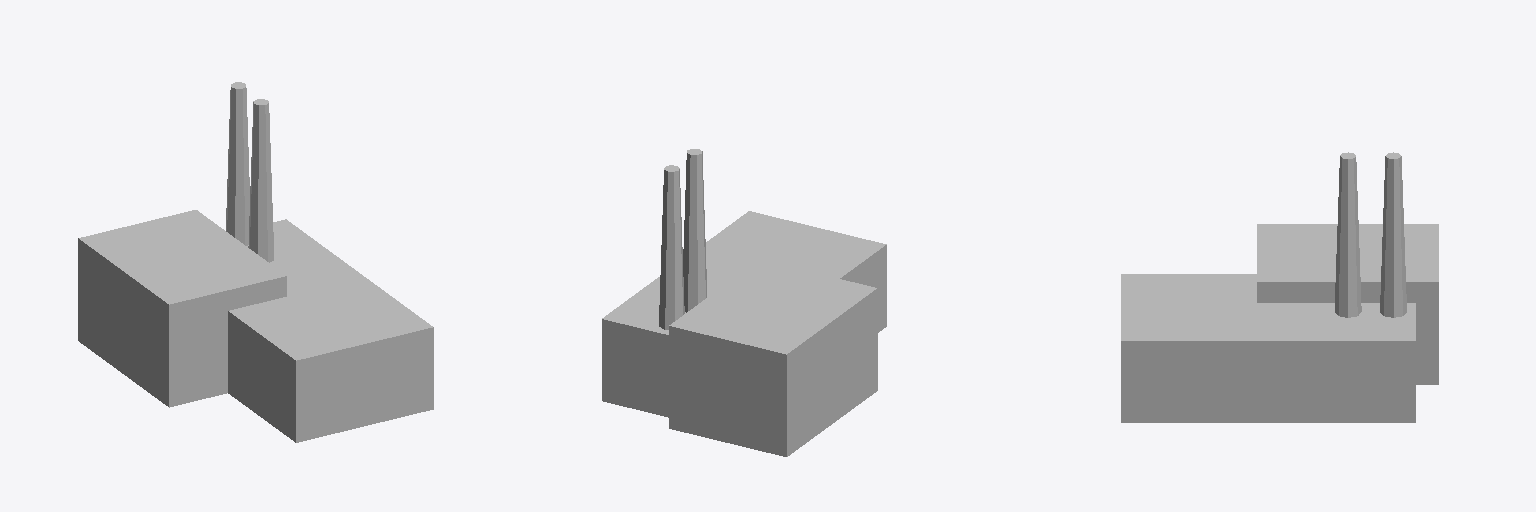
The model's file is Background_Building_04.obj.
3 renders of one model, left to right at view 1: azimuth 30°, elevation 25°; view 2: azimuth 150°, elevation 25°; view 3: azimuth 270°, elevation 25°, orthographic.
Parts seen in each view (by area): view 1: Background_Building_04_Cube.066; view 2: Background_Building_04_Cube.066; view 3: Background_Building_04_Cube.066.
Part boxes in pixels (left/top/right/bottom): Background_Building_04_Cube.066: left=78, top=82, right=433, bottom=442; Background_Building_04_Cube.066: left=602, top=149, right=886, bottom=456; Background_Building_04_Cube.066: left=1121, top=152, right=1438, bottom=422.
Size of the model in its own units: 10 by 11.6 by 14.